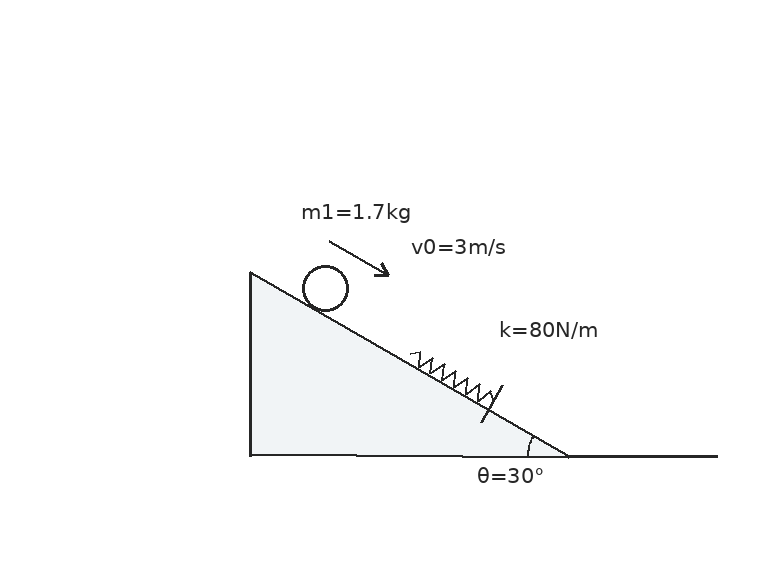ball: (300, 263, 350, 313)
ramp: (248, 269, 570, 457)
spring: (408, 349, 495, 403)
